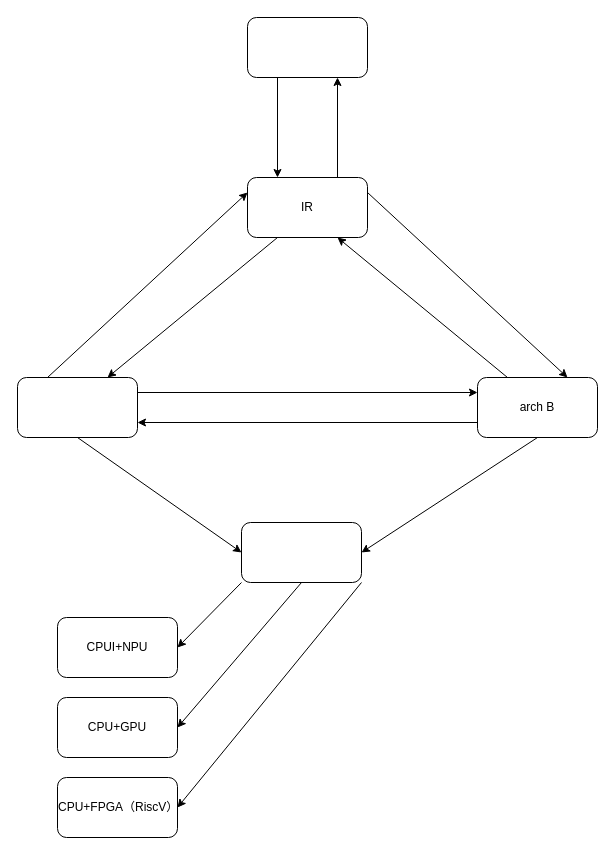
The diagram is 615 pixels wide and 855 high, and some of its shapes have lost their labels. The shapes that lost their labels are listed below. From the top down, each one's centre as x and y in pixels, then its label:
At point 307,47: "C/C++".
At point 77,407: "arch A".
At point 301,552: "Mem".
